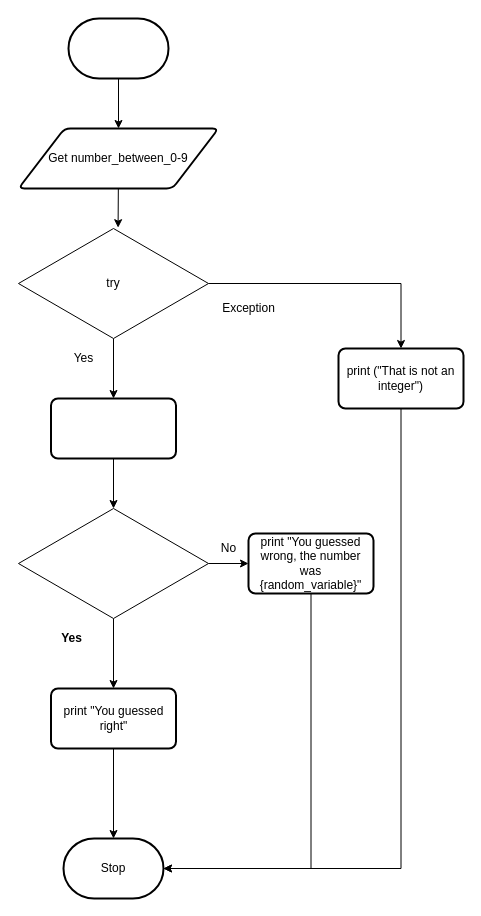
The diagram is 481 pixels wide and 916 high, and some of its shapes have lost their labels. The shapes that lost their labels are listed below. From the top down, each one's box as (x1, y1, x2, y2) in pixels, then its label:
(67, 17, 169, 79): Start
(50, 397, 176, 459): convert string to int
(18, 508, 208, 618): If number_between_0-9 == random_variable
